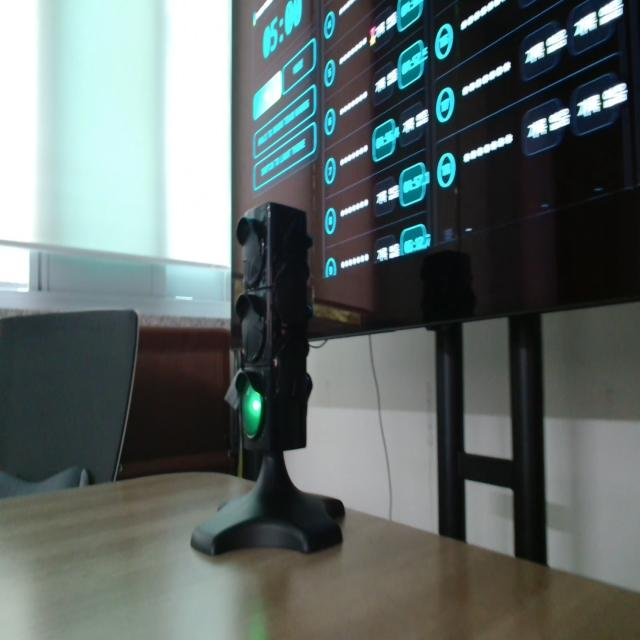green_light: (242, 383, 262, 438)
